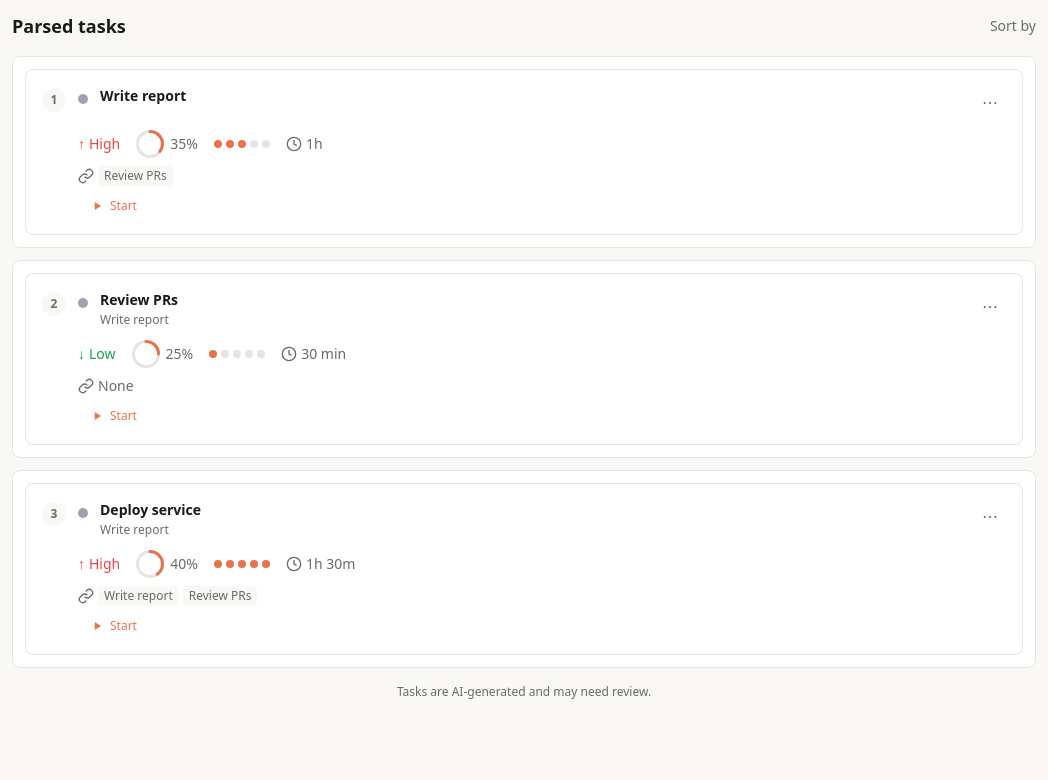
Test: MetricsDisplay › hides the dependency list when clicking the same task again
Click the button with test id "metrics-task-t3": (524, 656) [12,470,1036,668]
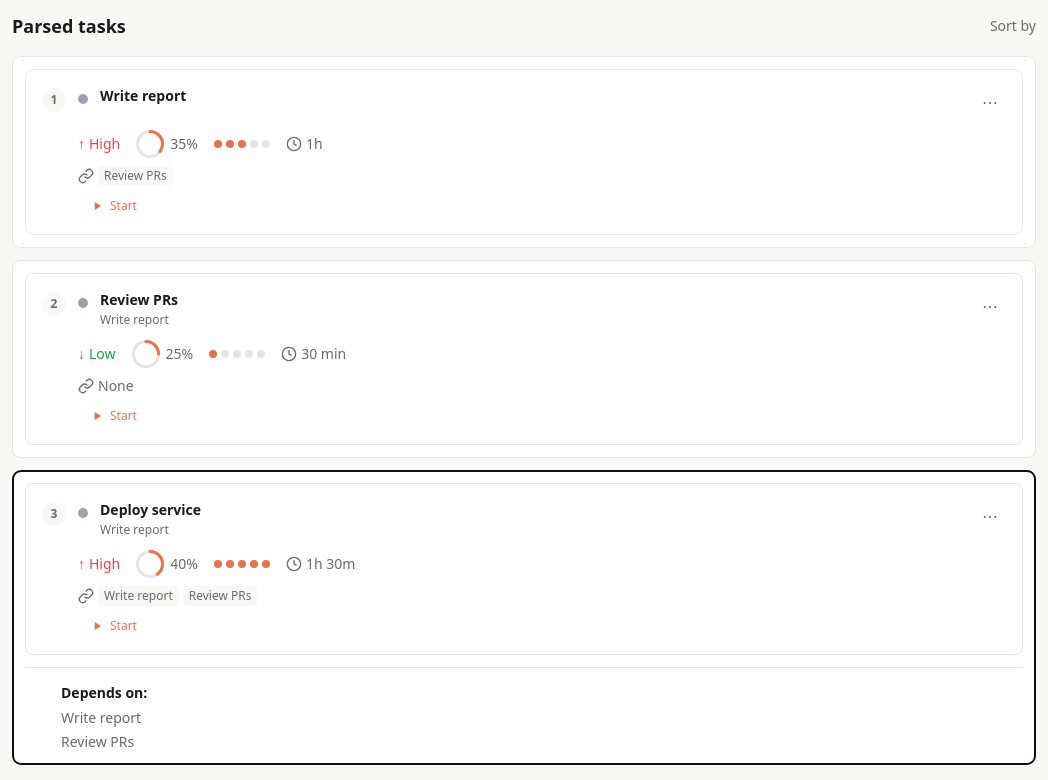
Result: the list item with test id "dep-t3-t1" is shown at [61,708,141,727]
Click the button with test id "metrics-task-t3": (53, 482) [12,470,1036,765]
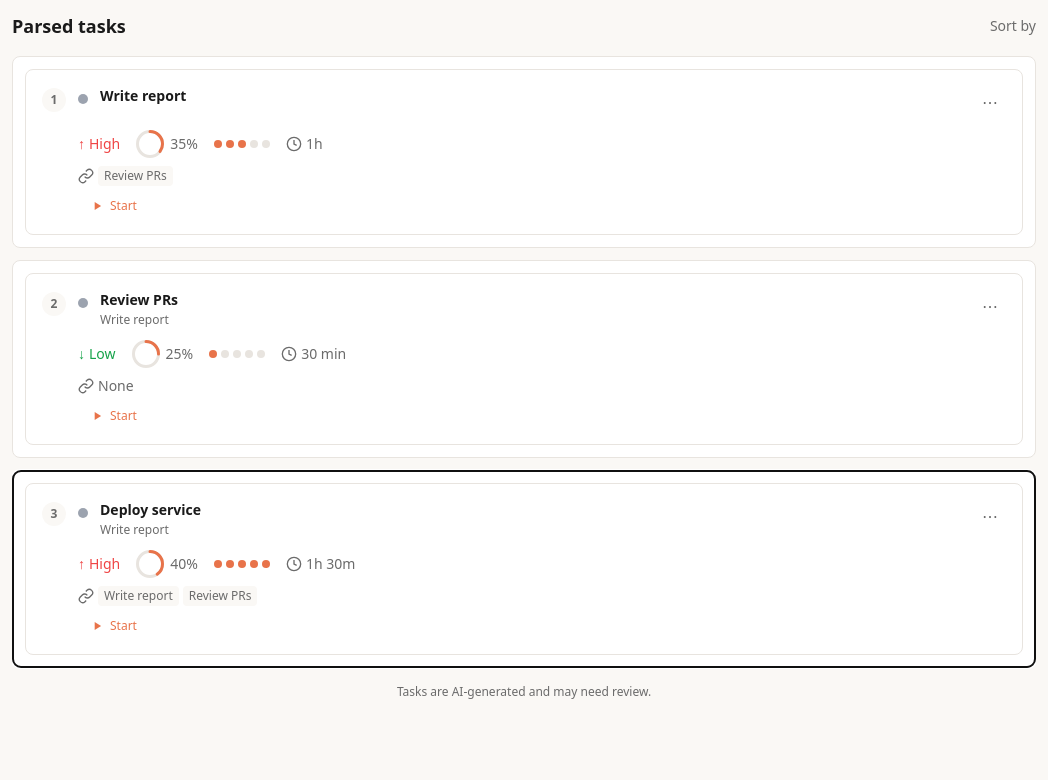
Result: the list item with test id "dep-t3-t1" is gone
